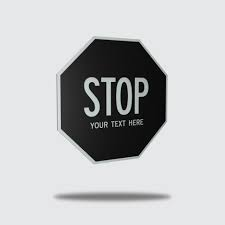stop sign: (55, 38, 169, 161)
